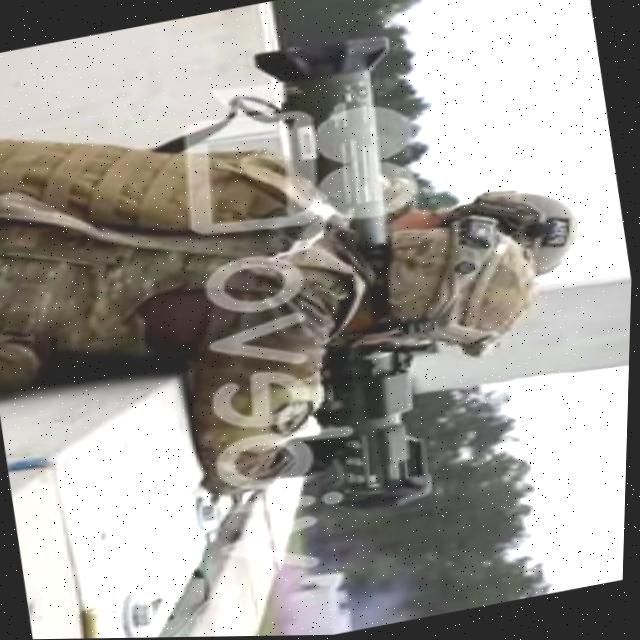rocket: (194, 16, 493, 526)
